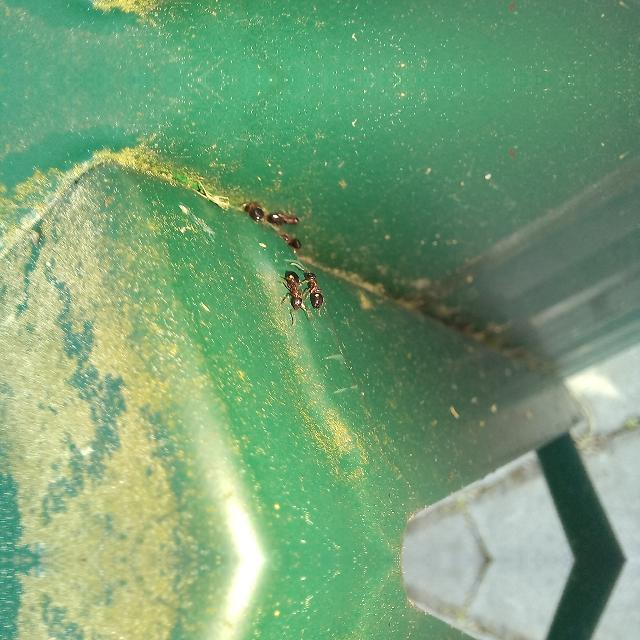Dolichoderus: (281, 268, 305, 318), (302, 266, 324, 306), (266, 207, 298, 223), (246, 200, 264, 222), (282, 238, 304, 254)
